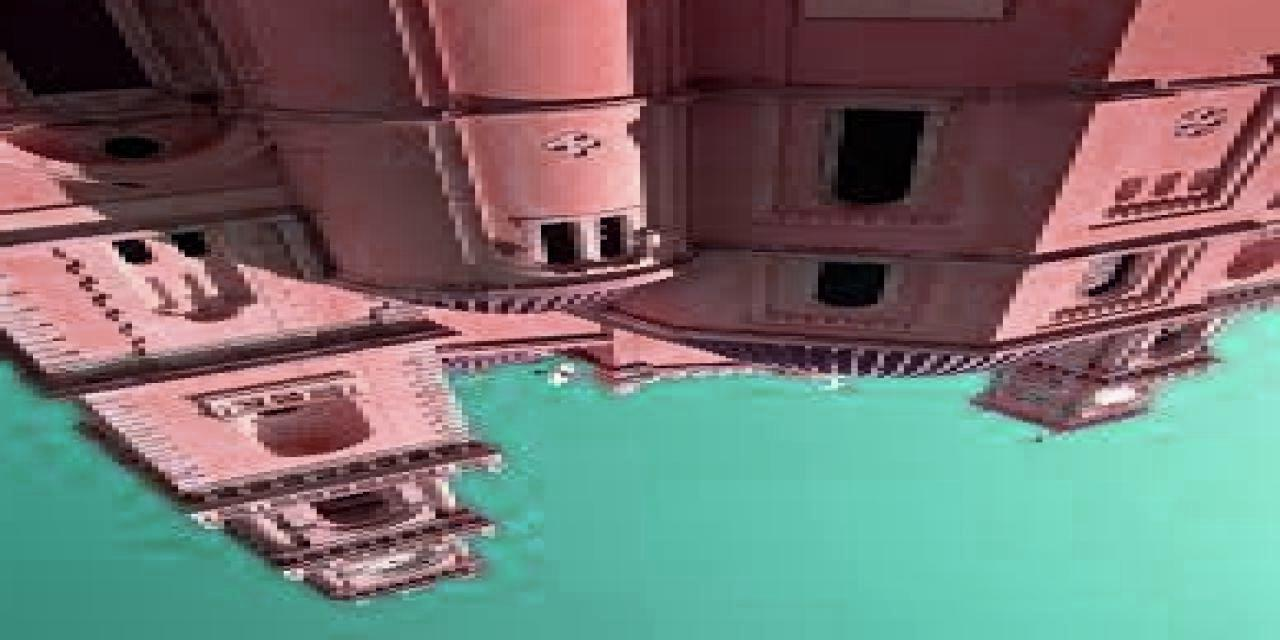Agios Minas: (1, 1, 1280, 607)
